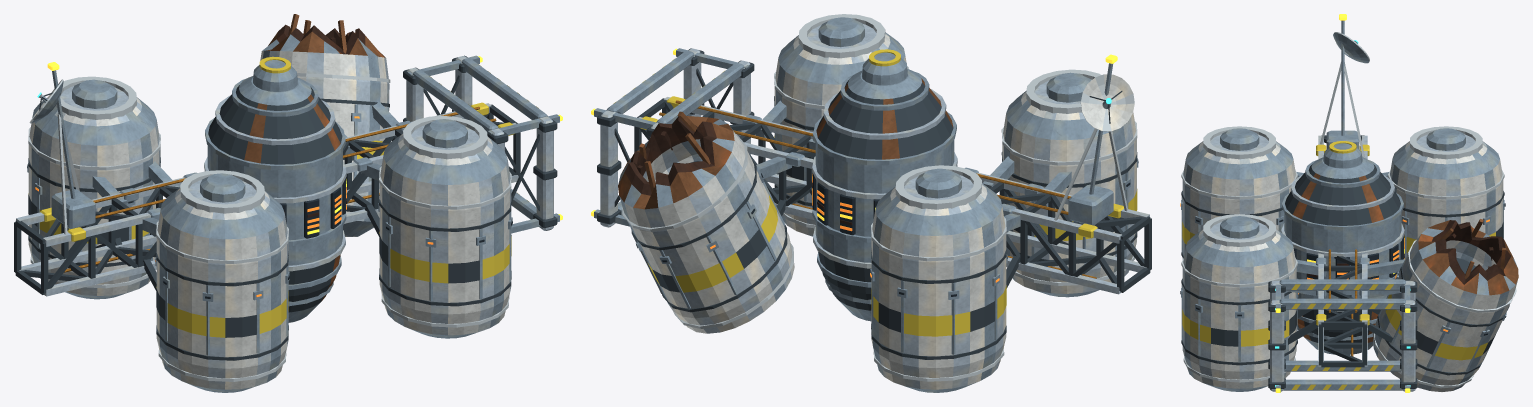
Rendered from broken_orbital_refinery.glb.
3 renders of one model, left to right at view 1: azimuth 30°, elevation 25°; view 2: azimuth 150°, elevation 25°; view 3: azimuth 270°, elevation 25°, orthographic. The views are drawn at different scales.
Visible parts, largest first — view 1: Ore drum 01 | pressure shell, Ore drum 03 | pressure shell, Smelter core | induction fins and dying amber vents, Ore drum 02 | pressure shell, Ore transfer | exposed box girder and power umbilicals, Ore drum 04 | ruptured, Cargo berth | open portal and approach lights, Communications mast; view 2: Ore drum 02 | pressure shell, Ore drum 04 | ruptured, Smelter core | induction fins and dying amber vents, Ore drum 01 | pressure shell, Ore transfer | exposed box girder and power umbilicals, Ore drum 03 | pressure shell, Cargo berth | open portal and approach lights, Communications mast; view 3: Ore drum 03 | pressure shell, Ore drum 04 | ruptured, Smelter core | induction fins and dying amber vents, Ore drum 02 | pressure shell, Ore drum 01 | pressure shell, Cargo berth | open portal and approach lights, Ore transfer | exposed box girder and power umbilicals, Communications mast.
Part boxes in pixels (x1,y1,x2,y2): Ore drum 01 | pressure shell: [142, 170, 289, 392]; Ore drum 03 | pressure shell: [361, 116, 512, 338]; Smelter core | induction fins and dying amber vents: [204, 56, 346, 322]; Ore drum 02 | pressure shell: [27, 76, 178, 299]; Ore transfer | exposed box girder and power umbilicals: [14, 102, 520, 296]; Ore drum 04 | ruptured: [260, 14, 398, 236]; Cargo berth | open portal and approach lights: [403, 55, 562, 233]; Communications mast: [29, 62, 95, 234]; Ore drum 02 | pressure shell: [870, 165, 1020, 392]; Ore drum 04 | ruptured: [618, 111, 794, 333]; Smelter core | induction fins and dying amber vents: [812, 49, 957, 321]; Ore drum 01 | pressure shell: [982, 69, 1138, 297]; Ore transfer | exposed box girder and power umbilicals: [634, 96, 1151, 294]; Ore drum 03 | pressure shell: [755, 14, 908, 236]; Cargo berth | open portal and approach lights: [591, 48, 754, 227]; Communications mast: [1054, 54, 1134, 225]; Ore drum 03 | pressure shell: [1180, 214, 1327, 391]; Ore drum 04 | ruptured: [1358, 219, 1518, 391]; Smelter core | induction fins and dying amber vents: [1281, 141, 1404, 354]; Ore drum 02 | pressure shell: [1382, 126, 1505, 258]; Ore drum 01 | pressure shell: [1180, 126, 1303, 259]; Cargo berth | open portal and approach lights: [1268, 279, 1417, 392]; Ore transfer | exposed box girder and power umbilicals: [1316, 135, 1369, 367]; Communications mast: [1320, 14, 1369, 157].
Bounding box in the file's own units: 95 × 55 × 70.
13 materials, 6 textured.
